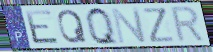E: (23, 9, 62, 45)
N: (110, 6, 148, 45)
Q: (84, 5, 121, 47), (56, 9, 89, 45)
R: (170, 5, 208, 44)
Z: (141, 7, 177, 44)
